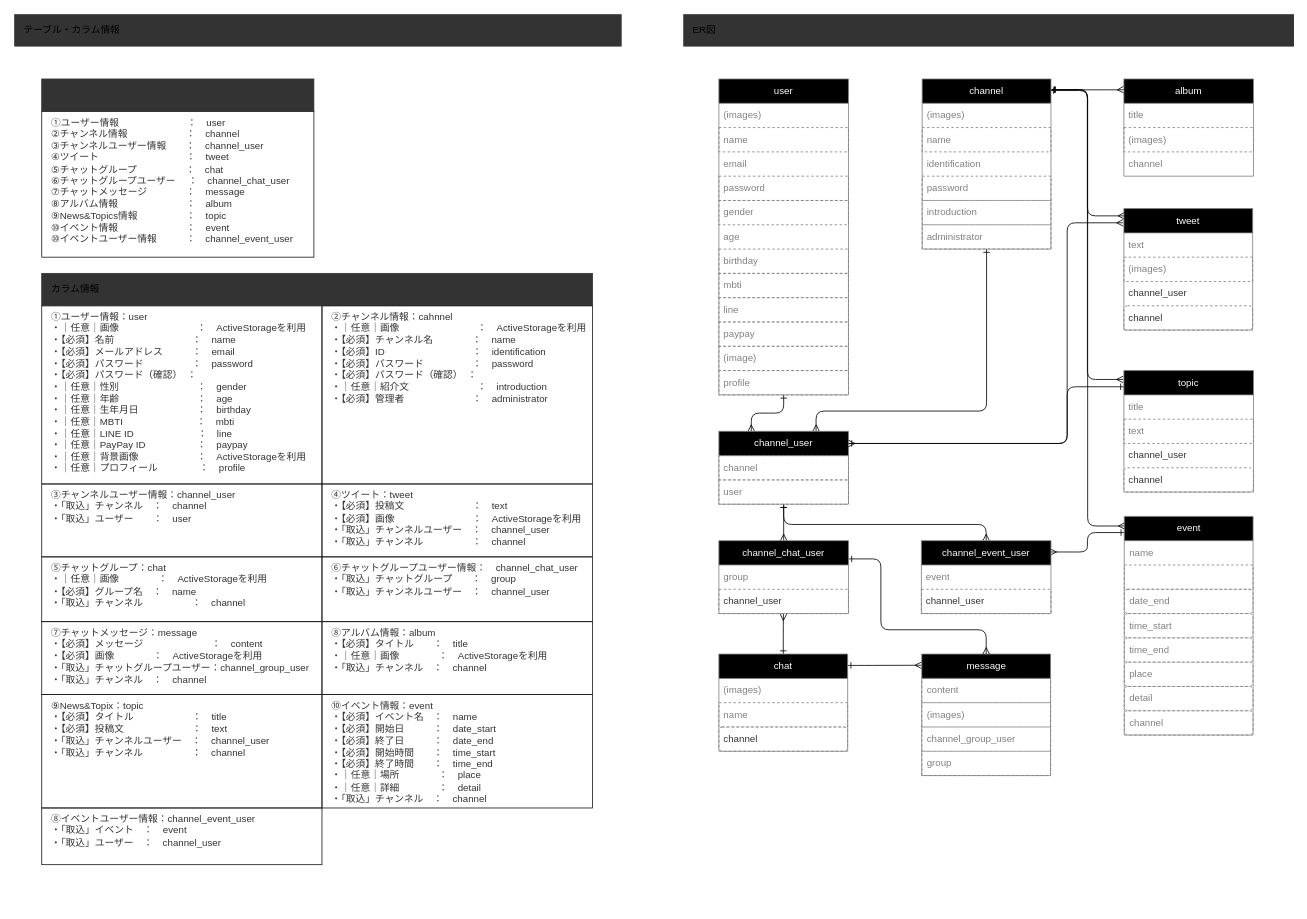
Image size: 1307x919. Some labels were removed from this diagram. Here are the shapes that lost their labels. From the top down, the centre of each, then its label:
At point 177,94: "テーブル情報".
At point 1188,576: "date_start".
